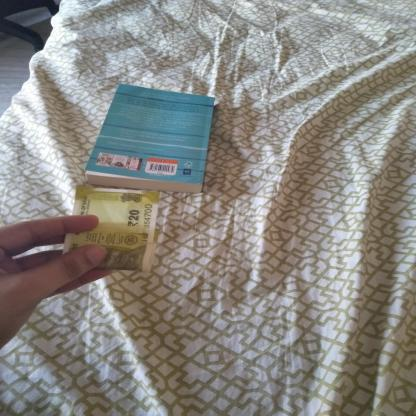New20Front: (70, 188, 154, 270)
